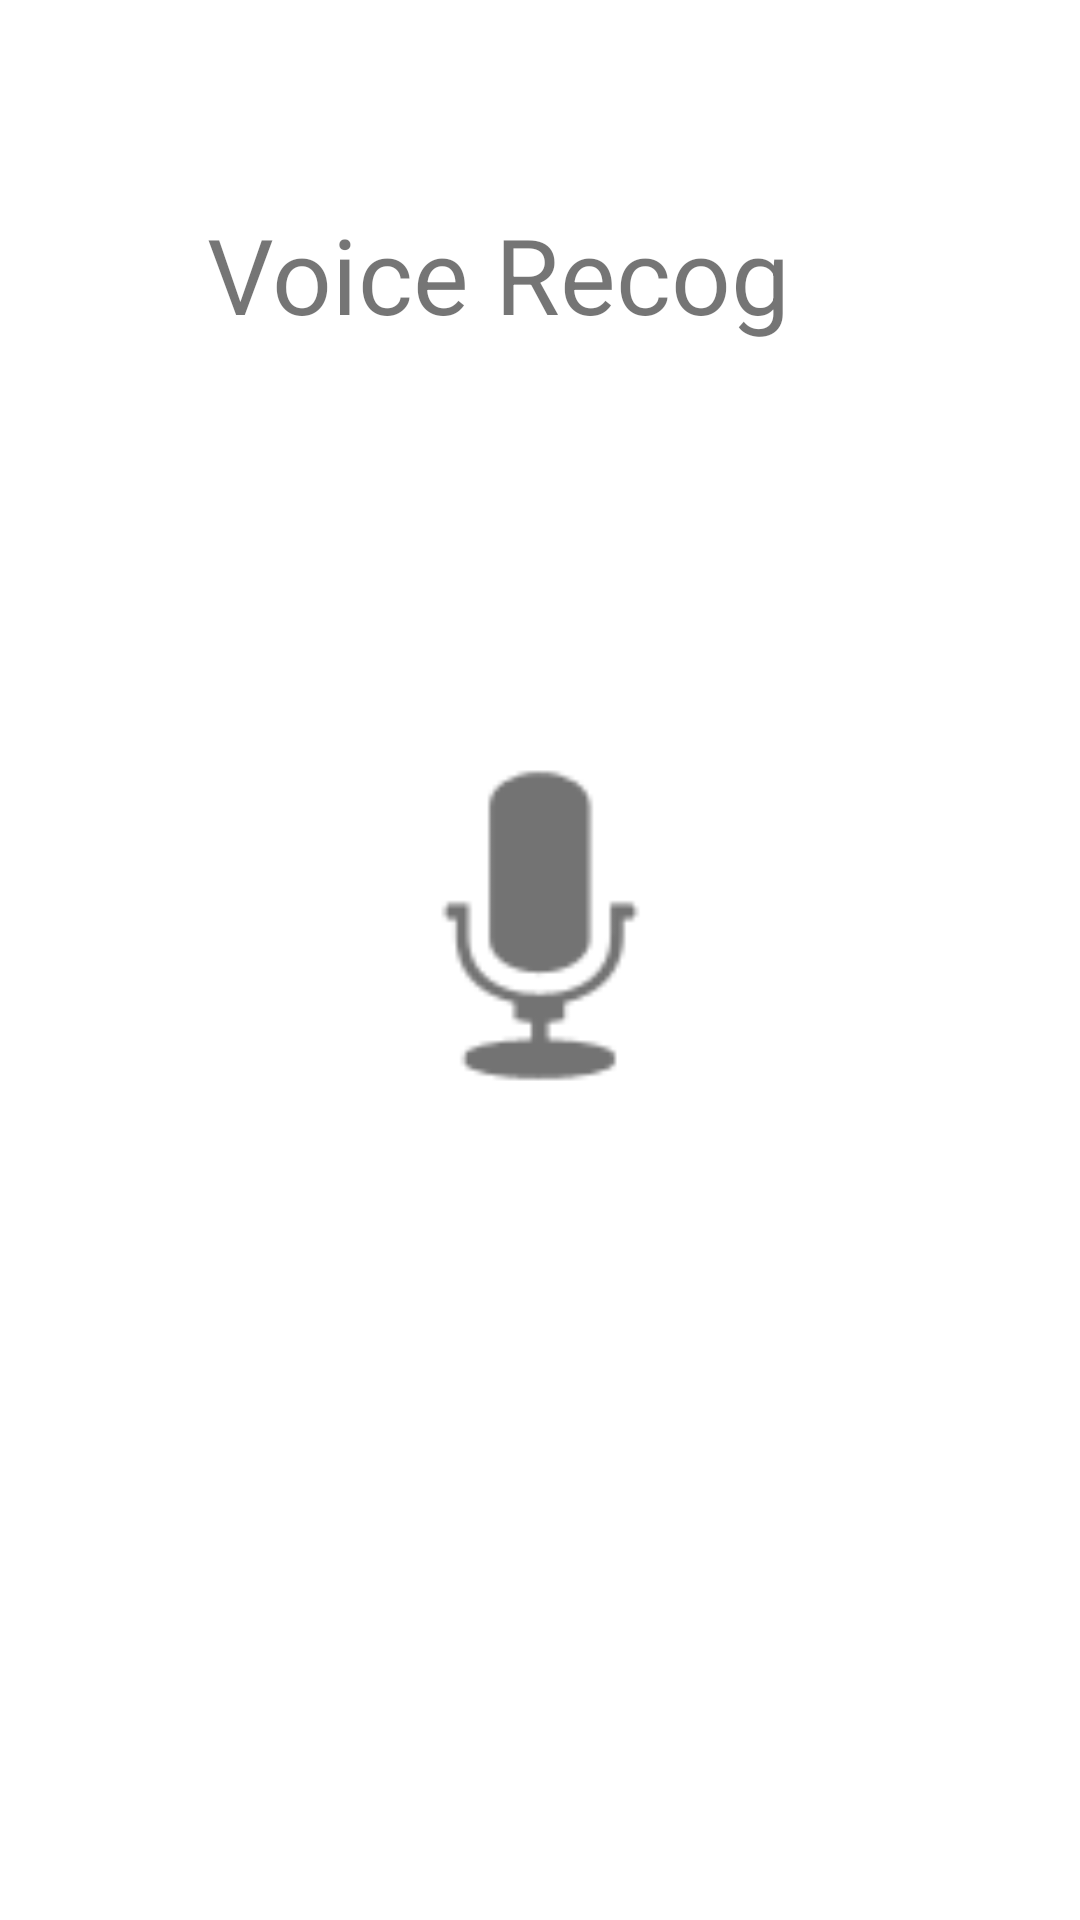

Icon bounding boxes for this 1080 x 1920 phone screenshot, format (x1, y1, x2, y2):
speak now: (443, 770, 638, 1081)
